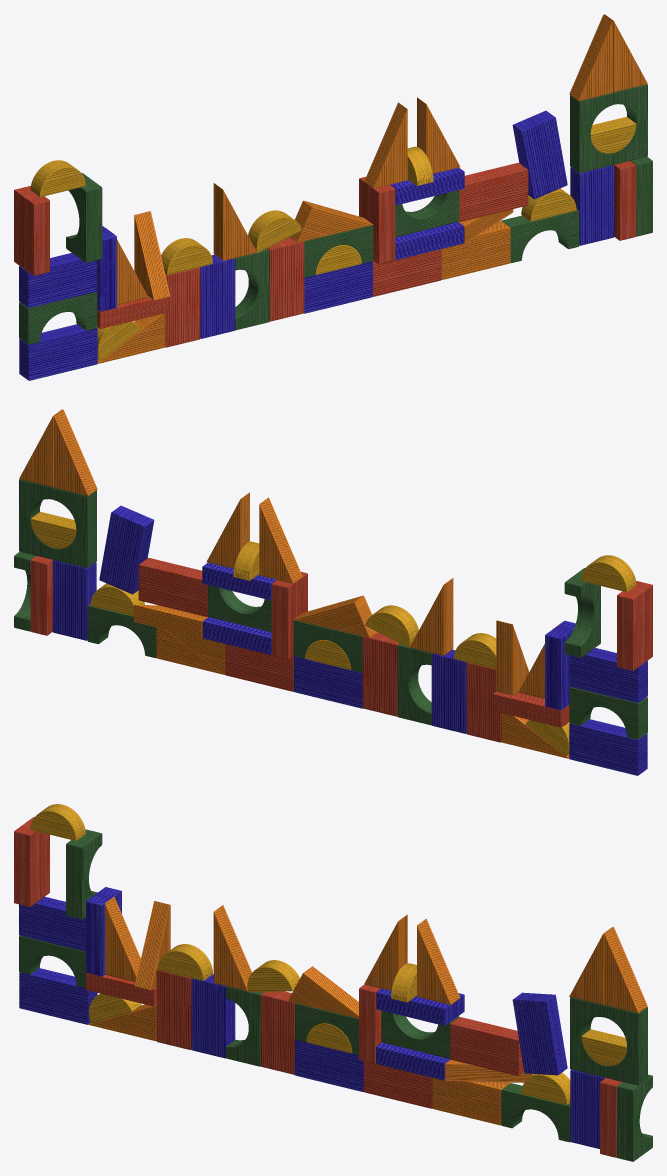
File: block_wall_big.obj
3 renders of one model, top to bottom at view 1: azimuth 30°, elevation 25°; view 2: azimuth 150°, elevation 25°; view 3: azimuth 330°, elevation 25°, orthographic.
Parts seen in each view (by area): view 1: Blue.009_Cube.049, Blue.004_Cube.014, Red.003_Cube.048, Blue.003_Cube.013, Blue.008_Cube.044, Red.008_Cube.026, Red.007_Cube.022, Blue.002_Cube.012, Blue.001_Cube.005, Red.005_Cube.016, Green.009_Cube.051, Red.009_Cube.032 (+34 smaller); view 2: Blue.009_Cube.049, Blue.004_Cube.014, Red.003_Cube.048, Blue.003_Cube.013, Blue.008_Cube.044, Red.008_Cube.026, Red.007_Cube.022, Blue.002_Cube.012, Blue.001_Cube.005, Green.009_Cube.051, Red.005_Cube.016, Red.009_Cube.032 (+34 smaller); view 3: Blue.009_Cube.049, Red.003_Cube.048, Blue.002_Cube.012, Blue.004_Cube.014, Red.007_Cube.022, Red.008_Cube.026, Red.005_Cube.016, Blue.003_Cube.013, Blue.001_Cube.005, Green.008_Cube.050, Orange.011_Cube.053, Green.007_Cube.046 (+34 smaller).
Boxes of the visible parts, left/top/right/bottom form: Blue.009_Cube.049: left=512, top=110, right=567, bottom=199; Blue.004_Cube.014: left=19, top=324, right=97, bottom=380; Red.003_Cube.048: left=459, top=162, right=528, bottom=221; Blue.003_Cube.013: left=19, top=253, right=97, bottom=308; Blue.008_Cube.044: left=570, top=165, right=614, bottom=245; Red.008_Cube.026: left=14, top=186, right=49, bottom=275; Red.007_Cube.022: left=267, top=237, right=304, bottom=321; Blue.002_Cube.012: left=200, top=254, right=235, bottom=338; Blue.001_Cube.005: left=304, top=261, right=372, bottom=313; Red.005_Cube.016: left=165, top=267, right=200, bottom=347; Green.009_Cube.051: left=570, top=93, right=613, bottom=173; Red.009_Cube.032: left=359, top=177, right=395, bottom=264; Blue.009_Cube.049: left=99, top=505, right=154, bottom=594; Blue.004_Cube.014: left=569, top=719, right=647, bottom=775; Red.003_Cube.048: left=138, top=557, right=207, bottom=616; Blue.003_Cube.013: left=569, top=648, right=647, bottom=703; Blue.008_Cube.044: left=52, top=560, right=96, bottom=640; Red.008_Cube.026: left=617, top=581, right=652, bottom=670; Red.007_Cube.022: left=362, top=632, right=399, bottom=716; Blue.002_Cube.012: left=431, top=649, right=466, bottom=733; Blue.001_Cube.005: left=294, top=656, right=362, bottom=708; Green.009_Cube.051: left=53, top=488, right=96, bottom=568; Red.005_Cube.016: left=466, top=662, right=501, bottom=742; Red.009_Cube.032: left=271, top=572, right=307, bottom=659; Blue.009_Cube.049: left=512, top=992, right=567, bottom=1075; Red.003_Cube.048: left=450, top=1017, right=524, bottom=1075; Blue.002_Cube.012: left=191, top=974, right=235, bottom=1058; Blue.004_Cube.014: left=19, top=968, right=97, bottom=1024; Red.007_Cube.022: left=260, top=991, right=295, bottom=1074; Red.008_Cube.026: left=14, top=817, right=49, bottom=906; Red.005_Cube.016: left=156, top=969, right=191, bottom=1049; Blue.003_Cube.013: left=19, top=896, right=85, bottom=951; Blue.001_Cube.005: left=294, top=1039, right=363, bottom=1091; Green.008_Cube.050: left=604, top=1005, right=647, bottom=1085; Orange.011_Cube.053: left=604, top=927, right=647, bottom=1013; Green.007_Cube.046: left=617, top=1074, right=652, bottom=1161.
Bounding box in the file's own units: 52 × 17.45 × 3.87.
Materials: 5 (5 with a texture image).
